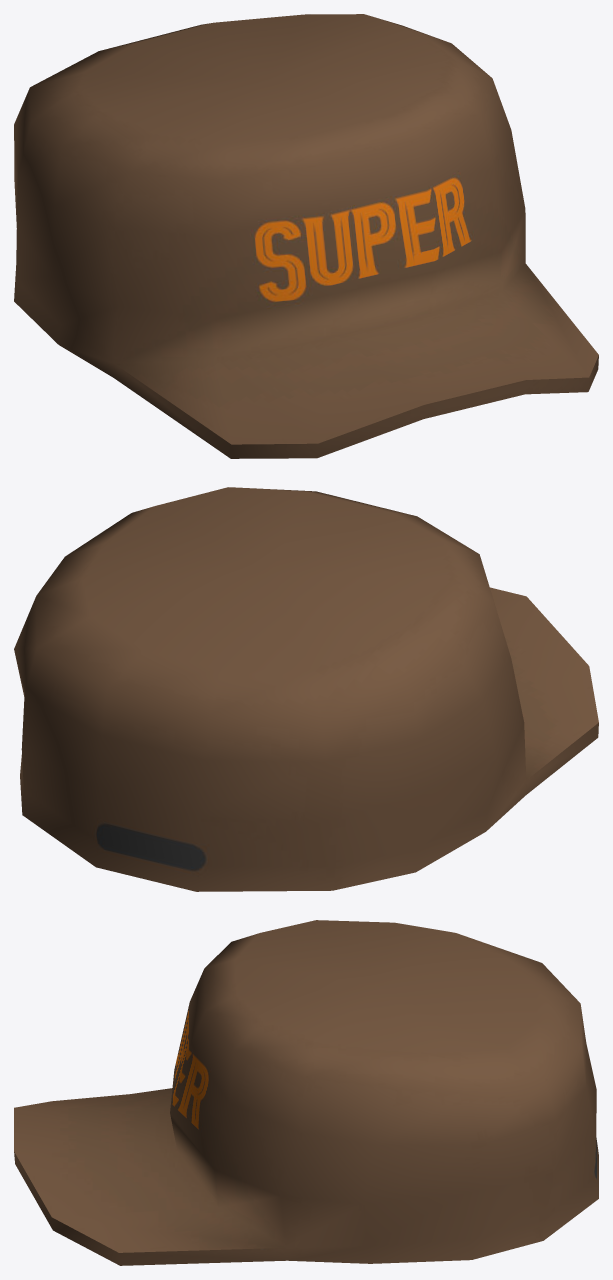
Rendered from imposterSkin08Hat.fbx.
The picture shows the model from 3 angles, top to bottom: view 1: azimuth 30°, elevation 25°; view 2: azimuth 150°, elevation 25°; view 3: azimuth 270°, elevation 25°; orthographic projection. The views are drawn at different scales.
Parts seen in each view (by area): view 1: imposterSkin08_hat_geo; view 2: imposterSkin08_hat_geo; view 3: imposterSkin08_hat_geo.
Boxes of the visible parts, x1=… form: imposterSkin08_hat_geo: x1=14, y1=14, x2=598, y2=458; imposterSkin08_hat_geo: x1=14, y1=487, x2=598, y2=891; imposterSkin08_hat_geo: x1=14, y1=920, x2=598, y2=1265.
Bounding box in the file's own units: 2.2 × 1.14 × 2.87.
Materials: 1 (1 with a texture image).
